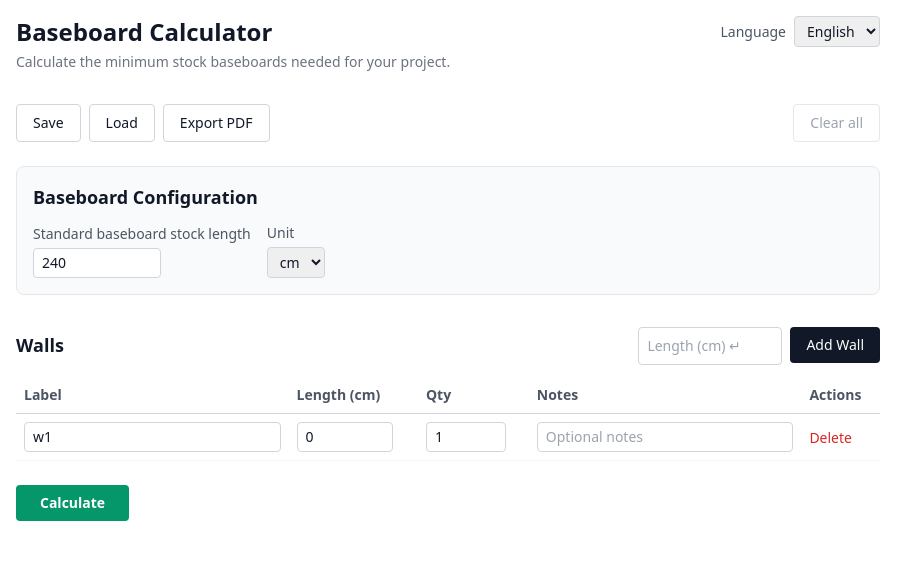
it: App › quick-entry wall length › adds a wall with the typed length when clicking Add Wall
Type "Hall" into the field named "Label" at (152, 437), box [24,422,281,452]
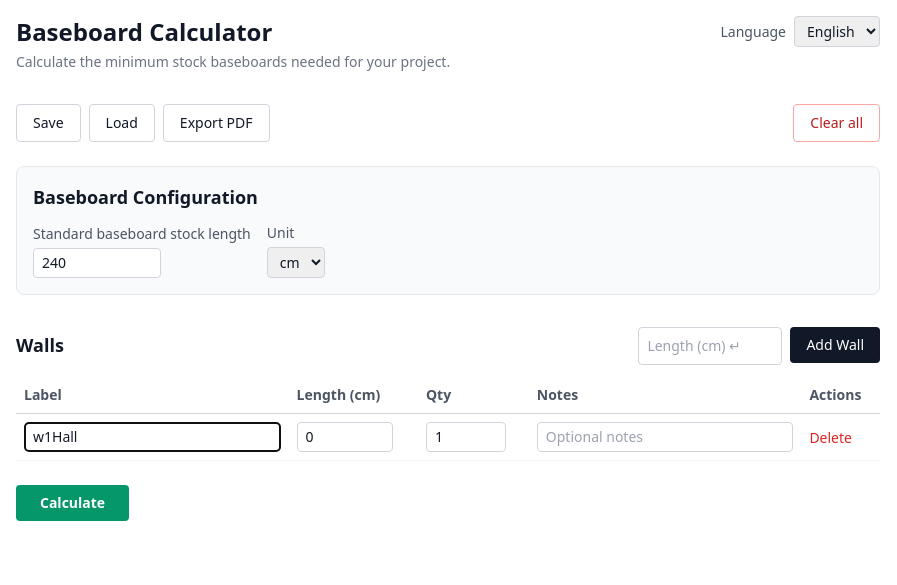
Type "200" into the field with test id "quick-add-input" at (710, 346), box [638,327,782,365]
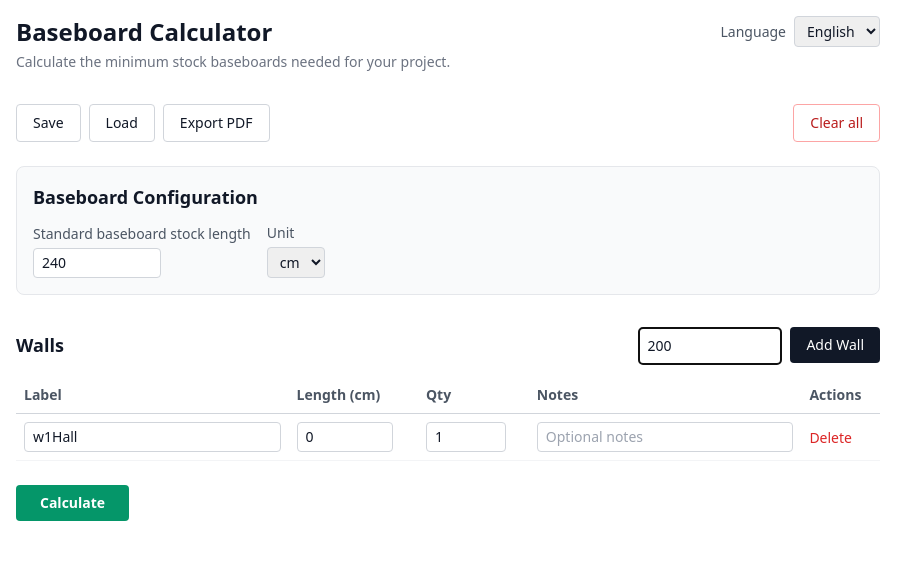
Click the button "Add Wall" at (835, 345), box [790,327,880,363]
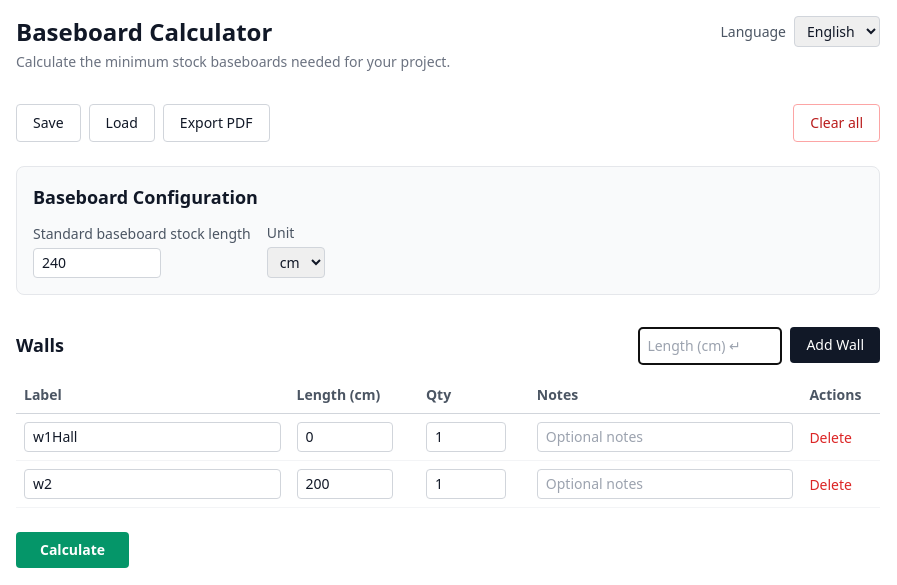
Expected: the number of number fields named "Length" is 2, [297,422,393,452]; [297,469,393,499]
Expected: the 2nd number field named "Length" holds "200", [297,469,393,499]
